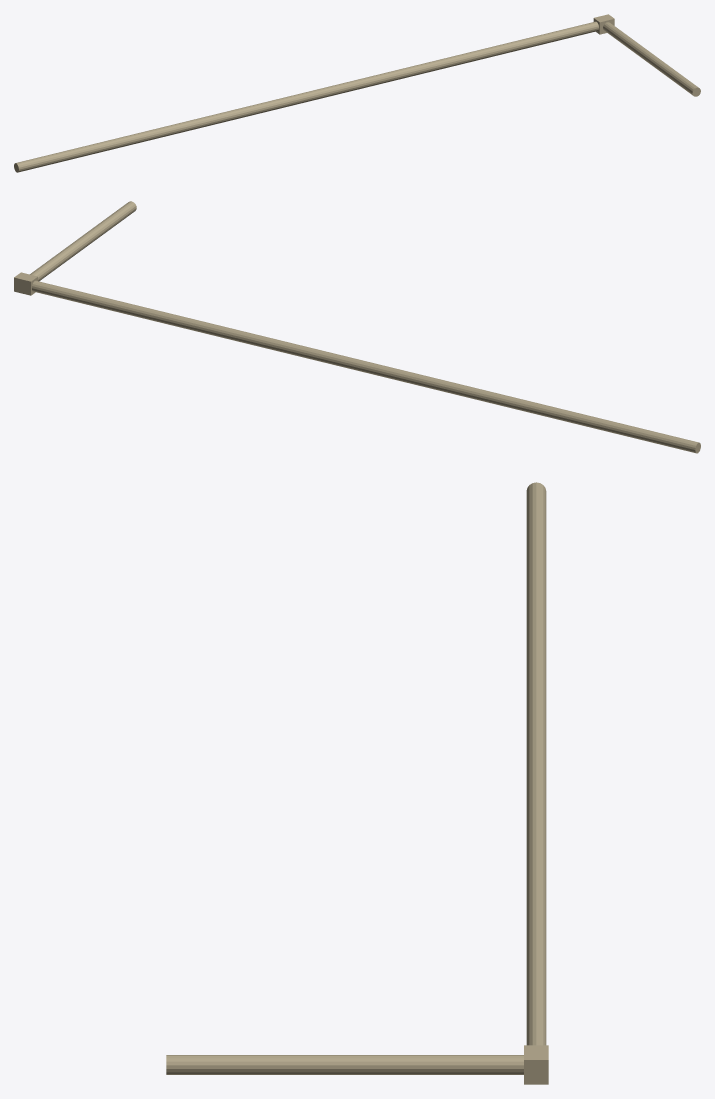
The model's file is D04_CARE_ANGLED_TERMINAL_r001.glb.
3 renders of one model, top to bottom at view 1: azimuth 30°, elevation 25°; view 2: azimuth 150°, elevation 25°; view 3: azimuth 270°, elevation 25°, orthographic. The views are drawn at different scales.
Visible parts, largest first — view 1: D04PC_CareOffsetArm, D04PC_CareTerminalTip; view 2: D04PC_CareOffsetArm, D04PC_CareTerminalTip, D04PC_CareTerminalJoint; view 3: D04PC_CareOffsetArm, D04PC_CareTerminalTip, D04PC_CareTerminalJoint.
Boxes of the visible parts, x1=… form: D04PC_CareOffsetArm: x1=14, y1=21, x2=598, y2=172; D04PC_CareTerminalTip: x1=603, y1=22, x2=700, y2=96; D04PC_CareOffsetArm: x1=32, y1=280, x2=700, y2=453; D04PC_CareTerminalTip: x1=30, y1=201, x2=136, y2=281; D04PC_CareTerminalJoint: x1=14, y1=272, x2=37, y2=295; D04PC_CareOffsetArm: x1=526, y1=482, x2=546, y2=1045; D04PC_CareTerminalTip: x1=166, y1=1055, x2=523, y2=1074; D04PC_CareTerminalJoint: x1=524, y1=1045, x2=548, y2=1084.
Bounding box in the file's own units: 1.11 × 0.022 × 0.31.
